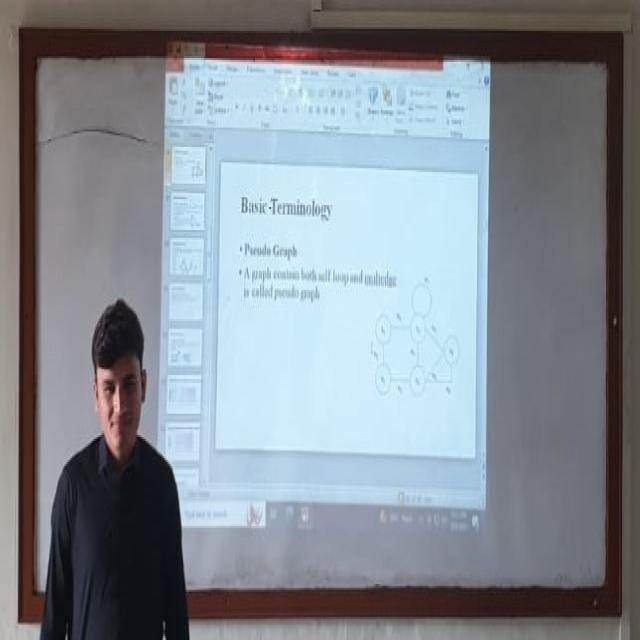Instructor: (54, 250, 188, 636)
Slide: (158, 41, 492, 543)
White-board: (27, 36, 618, 617)
